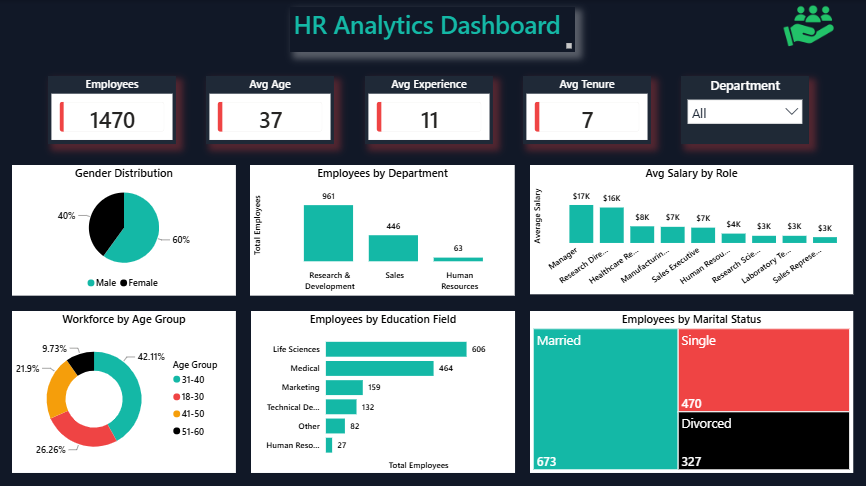

Layout of this report page (visuals, bound fields, positions):
{"tool":"powerbi","page":{"name":"Workforce Overview","canvas":[1280,720],"ordinal":1},"visuals":[{"type":"cardVisual","title":"Employees","fields":{"Data":["Employees.Total Employees"]},"box":[73.5,111.7,188.1,99.9],"z":0},{"type":"cardVisual","title":"Avg Age","fields":{"Data":["Employees.Average Age"]},"box":[306,111.7,188.1,99.9],"z":1000},{"type":"cardVisual","title":"Avg Experience","fields":{"Data":["Employees.Avg Experience"]},"box":[538.5,111.7,188.1,99.9],"z":2000},{"type":"cardVisual","title":"Avg Tenure","fields":{"Data":["Employees.Avg Tenure"]},"box":[771.1,111.7,188.1,99.9],"z":3000},{"type":"pieChart","title":"Gender Distribution","fields":{"Category":["Employees.Gender"],"Y":["Employees.Total Employees"]},"box":[20.6,242.4,329.1,192.5],"z":4000},{"type":"columnChart","title":"Employees by Department","fields":{"Category":["Employees.Department"],"Y":["Employees.Total Employees"]},"box":[371,242.4,389.4,192.5],"z":5000},{"type":"pieChart","title":"Workforce by Age Group","fields":{"Category":["Employees.Age Group"],"Y":["Employees.Total Employees"]},"box":[20.6,457,329.1,238],"z":6000},{"type":"clusteredBarChart","title":"Employees by Education Field","fields":{"Category":["Employees.EducationField"],"Y":["Employees.Total Employees"]},"box":[371.8,457,387.9,238],"z":7000},{"type":"treemap","title":"Employees by Marital Status","fields":{"Group":["Employees.MaritalStatus"],"Values":["Employees.Total Employees"]},"box":[781.7,457,474.6,238],"z":8000},{"type":"columnChart","title":"Avg Salary by Role","fields":{"Category":["Employees.JobRole"],"Y":["Employees.Average Salary"]},"box":[781.7,242.4,474.6,189.6],"z":9000},{"type":"slicer","title":"Department","fields":{"Values":["Employees.Department"]},"box":[1003.6,111.7,188,100],"z":11000},{"type":"textbox","title":"HR Analytics Dashboard","box":[429.1,10.3,418.8,66.1],"z":11001},{"type":"image","box":[1124.1,0,133.7,76.4],"z":11002}]}

Visuals, with their boxes in screenshot pixels (x1, y1, x2, y2), scaled from the page's 1280x720 canvas onto the 866x486 screenshot:
"Employees" cardVisual: x1=50 y1=75 x2=177 y2=143
"Avg Age" cardVisual: x1=207 y1=75 x2=334 y2=143
"Avg Experience" cardVisual: x1=364 y1=75 x2=492 y2=143
"Avg Tenure" cardVisual: x1=522 y1=75 x2=649 y2=143
"Gender Distribution" pieChart: x1=14 y1=164 x2=237 y2=294
"Employees by Department" columnChart: x1=251 y1=164 x2=514 y2=294
"Workforce by Age Group" pieChart: x1=14 y1=308 x2=237 y2=469
"Employees by Education Field" clusteredBarChart: x1=252 y1=308 x2=514 y2=469
"Employees by Marital Status" treemap: x1=529 y1=308 x2=850 y2=469
"Avg Salary by Role" columnChart: x1=529 y1=164 x2=850 y2=292
"Department" slicer: x1=679 y1=75 x2=806 y2=143
"HR Analytics Dashboard" textbox: x1=290 y1=7 x2=574 y2=52
image: x1=761 y1=0 x2=851 y2=52
